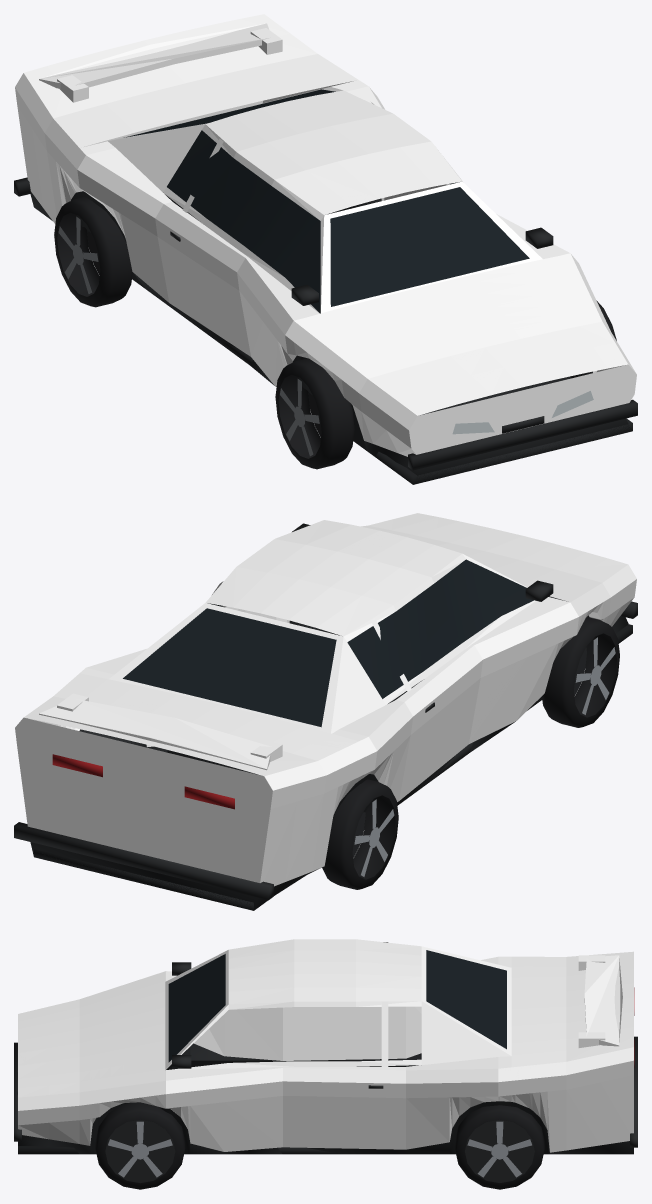
Rendered from vallon_ceramica.glb.
The picture shows the model from 3 angles, top to bottom: view 1: azimuth 30°, elevation 25°; view 2: azimuth 150°, elevation 25°; view 3: azimuth 270°, elevation 25°; orthographic projection. The views are drawn at different scales.
Parts seen in each view (by area): view 1: Body_Paint, Body_Details, Mount_FrontLeft_Wheel_Details, Mount_RearLeft_Wheel_Details; view 2: Body_Paint, Body_Details, Mount_RearLeft_Wheel_Details, Mount_FrontLeft_Wheel_Details; view 3: Body_Paint, Body_Details, Mount_FrontRight_Wheel_Details, Mount_RearRight_Wheel_Details.
Boxes of the visible parts, x1,y1,x2,y2 form: Body_Paint: (15,14,636,456); Body_Details: (14,89,637,484); Mount_FrontLeft_Wheel_Details: (275,358,354,469); Mount_RearLeft_Wheel_Details: (54,197,132,307); Body_Paint: (15,513,636,886); Body_Details: (14,523,637,910); Mount_RearLeft_Wheel_Details: (322,779,398,889); Mount_FrontLeft_Wheel_Details: (542,617,619,727); Body_Paint: (18,939,633,1152); Body_Details: (14,950,637,1154); Mount_FrontRight_Wheel_Details: (95,1102,185,1189); Mount_RearRight_Wheel_Details: (455,1105,544,1189).
Bounding box in the file's own units: 1.91 × 1.24 × 4.24.
2 materials, 1 textured.
